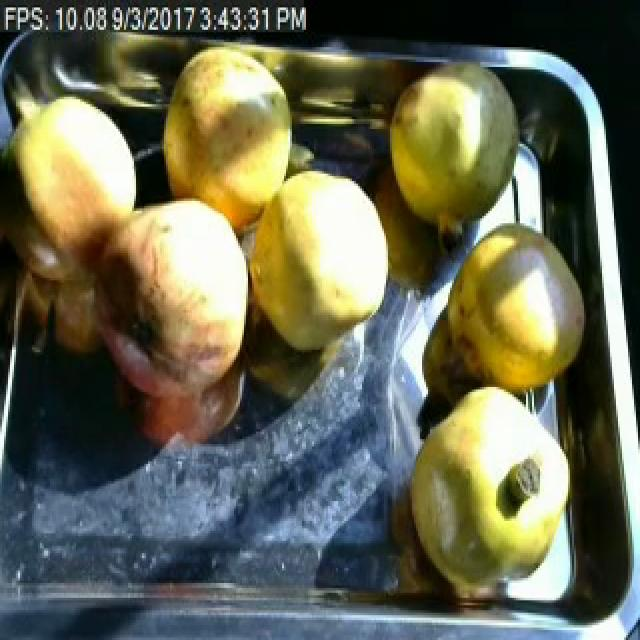fruit: (64, 178, 274, 422), (400, 372, 576, 595), (234, 148, 406, 364), (2, 72, 148, 308), (436, 211, 592, 409), (380, 59, 532, 256), (154, 37, 302, 233)
